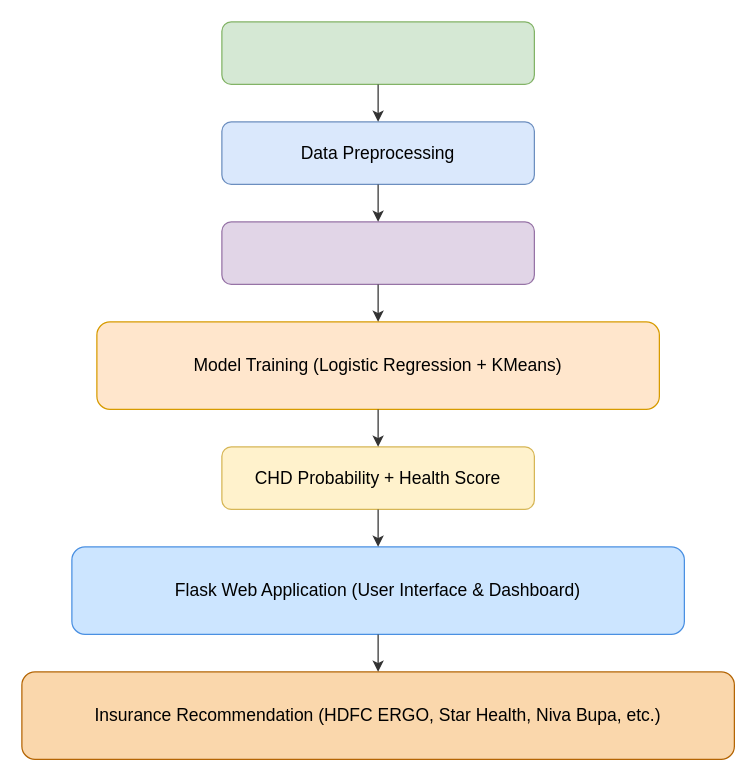
Some shapes in this 756 by 781 pixel diagram are drawn without their labels. The box of each missing label's shape, as (x1, y1, x2, y2) in pixels:
Framingham Dataset: (221, 21, 534, 84)
Standardization (Scaler): (221, 221, 534, 284)
